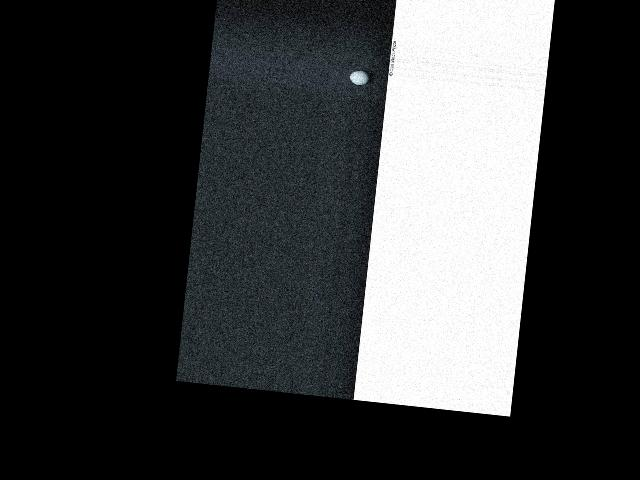egg: (349, 69, 370, 86)
